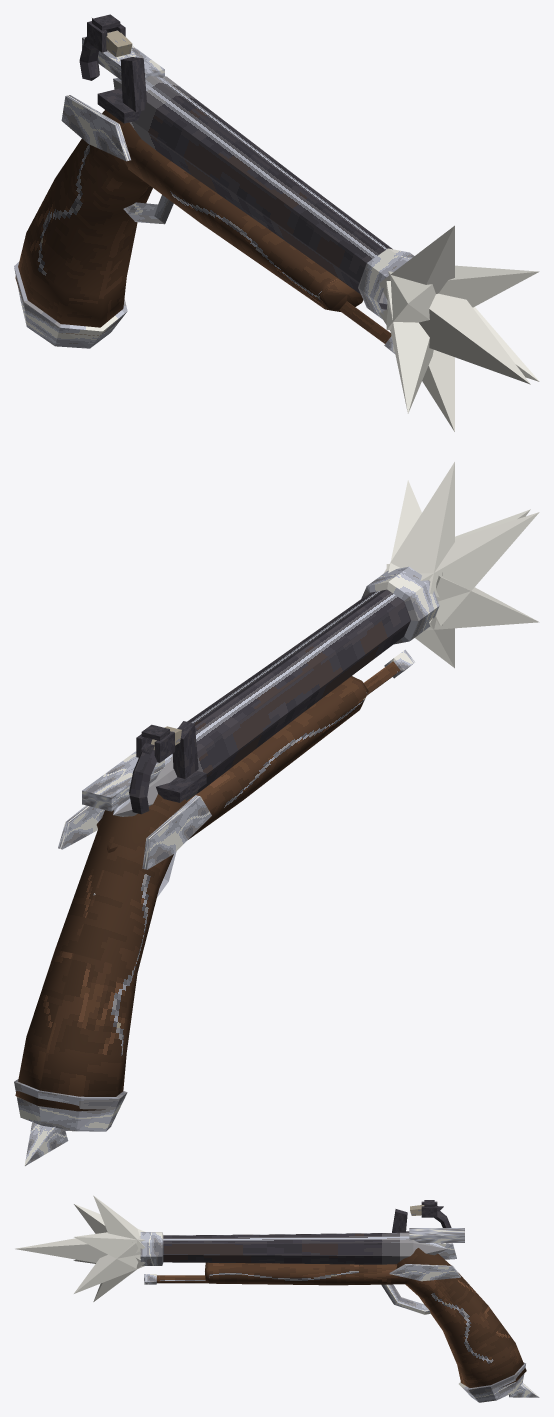
Rendered from pistol.glb.
The picture shows the model from 3 angles, top to bottom: view 1: azimuth 30°, elevation 25°; view 2: azimuth 150°, elevation 25°; view 3: azimuth 270°, elevation 25°; orthographic projection. The views are drawn at different scales.
Visible parts, largest first — view 1: stock, barrel, flash, fittings, cock; view 2: stock, barrel, fittings, flash, cock; view 3: stock, barrel, flash, fittings, cock.
Part boxes in pixels (x1,y1,x2,y2): stock: (15,110,362,335); barrel: (113,75,414,319); flash: (379,225,539,431); fittings: (14,36,395,353); cock: (79,14,132,80); stock: (15,676,368,1111); barrel: (113,566,439,816); fittings: (14,649,414,1165); flash: (383,462,539,668); cock: (129,724,181,814); stock: (205,1248,526,1388); barrel: (140,1232,447,1265); flash: (15,1195,145,1301); fittings: (144,1209,539,1402); cock: (410,1200,451,1227).
Bounding box in the file's own units: 0.072 × 0.2036 × 0.4788.
1 material, 1 textured.
